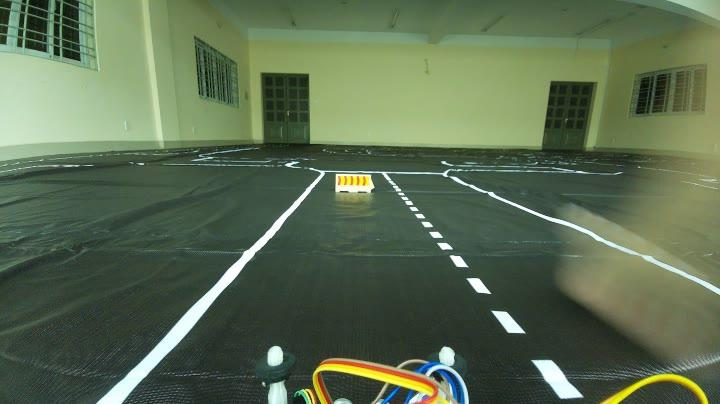roadblock: (329, 170, 381, 201)
